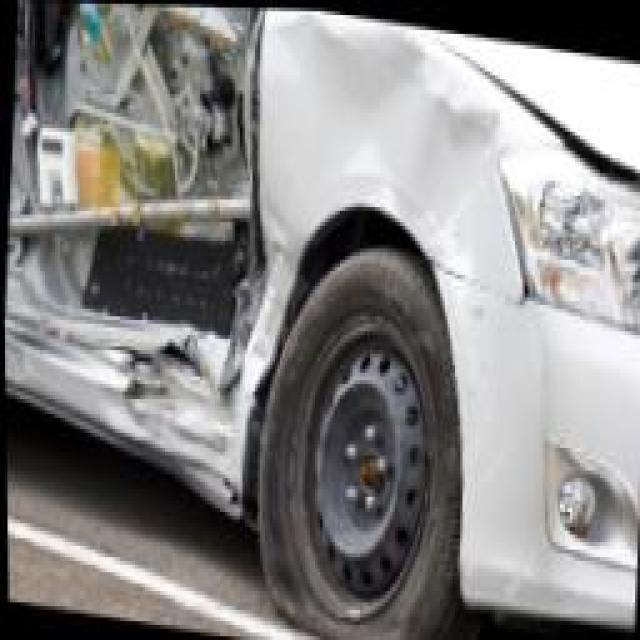Door: (0, 0, 272, 410)
Fender: (245, 8, 531, 301)
